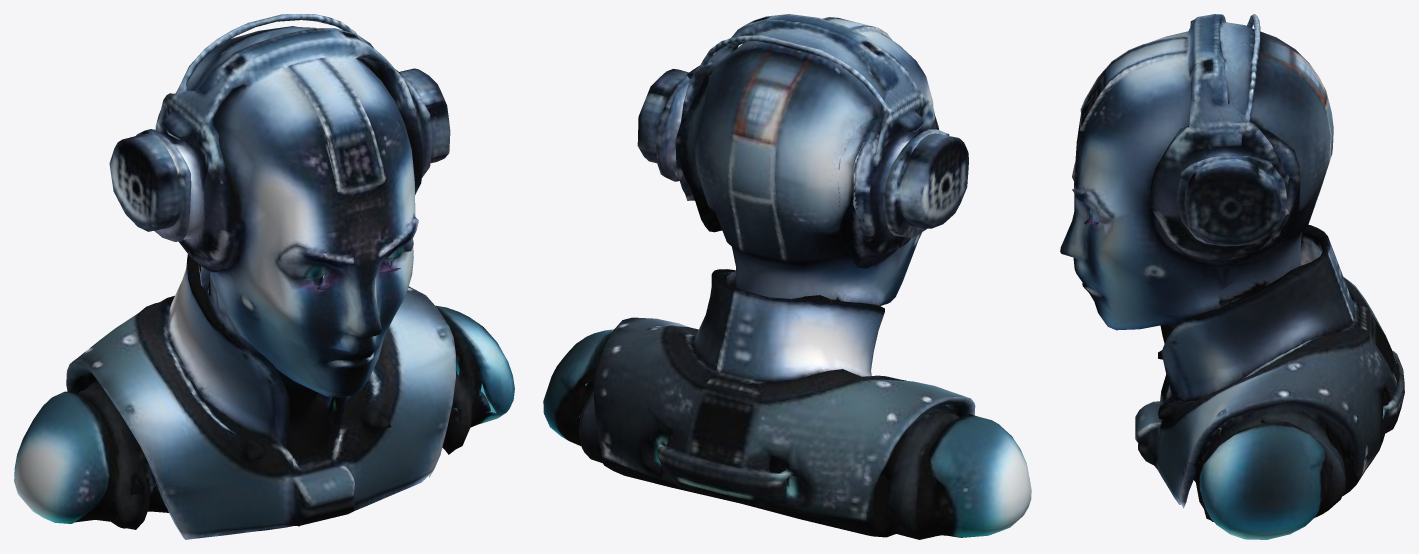
Rendered from modello.glb.
3 views of the same model, side by side, from view 1: azimuth 30°, elevation 25°; view 2: azimuth 150°, elevation 25°; view 3: azimuth 270°, elevation 25° (orthographic). The views are drawn at different scales.
Visible parts, largest first — view 1: agente; view 2: agente; view 3: agente.
Boxes of the visible parts, x1,y1,x2,y2 form: agente: (14,14,514,539); agente: (543,14,1031,539); agente: (1060,14,1404,539).
Bounding box in the file's own units: 1.09 × 1 × 0.7351.
1 material, 1 textured.
